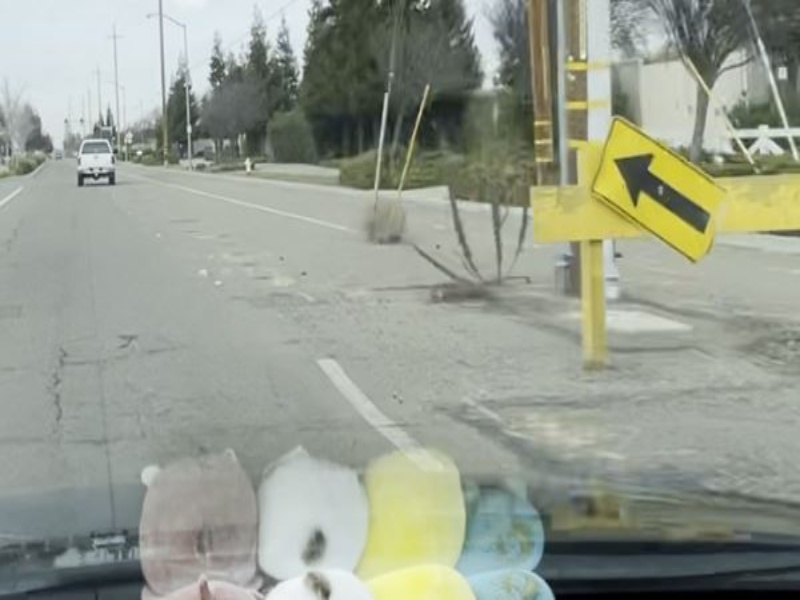merge sign: (590, 110, 726, 267)
